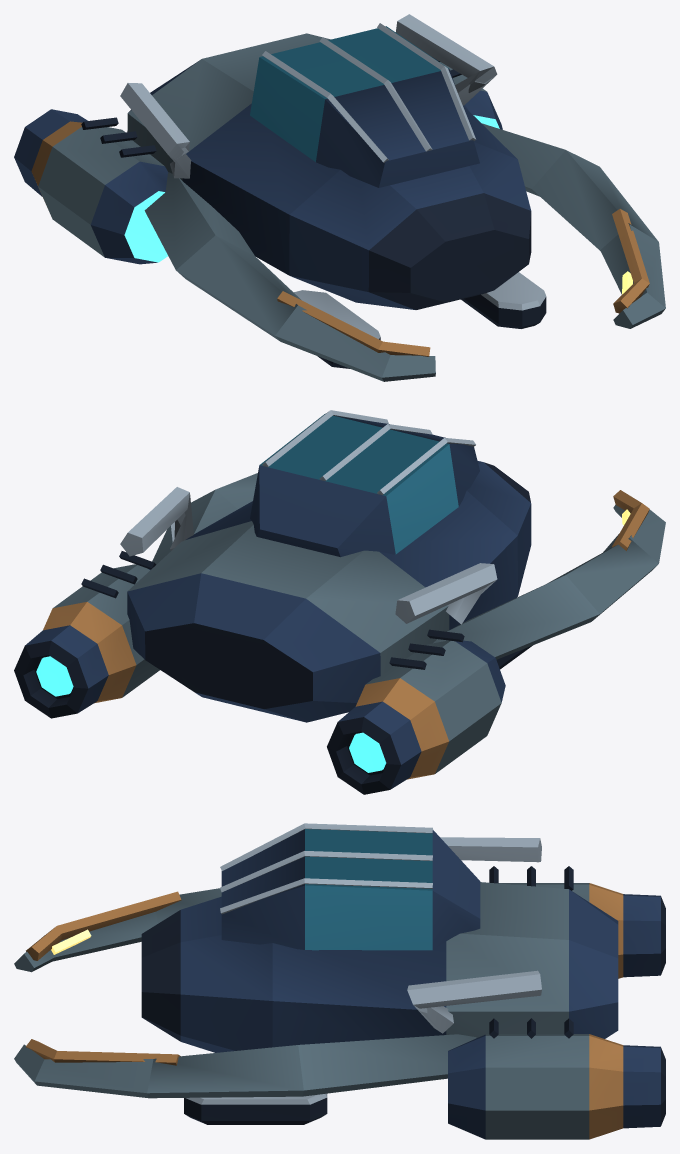
Rendered from shipyard-cargo-tug.glb.
3 renders of one model, top to bottom at view 1: azimuth 30°, elevation 25°; view 2: azimuth 150°, elevation 25°; view 3: azimuth 270°, elevation 25°, orthographic.
Visible parts, largest first — view 1: shipyard-cargo-tug; view 2: shipyard-cargo-tug; view 3: shipyard-cargo-tug.
Boxes of the visible parts, bbox=[...] form: shipyard-cargo-tug: bbox=[14, 14, 665, 381]; shipyard-cargo-tug: bbox=[14, 410, 665, 794]; shipyard-cargo-tug: bbox=[14, 823, 665, 1139].
Bounding box in the file's own units: 2.85 × 1.45 × 3.83.
